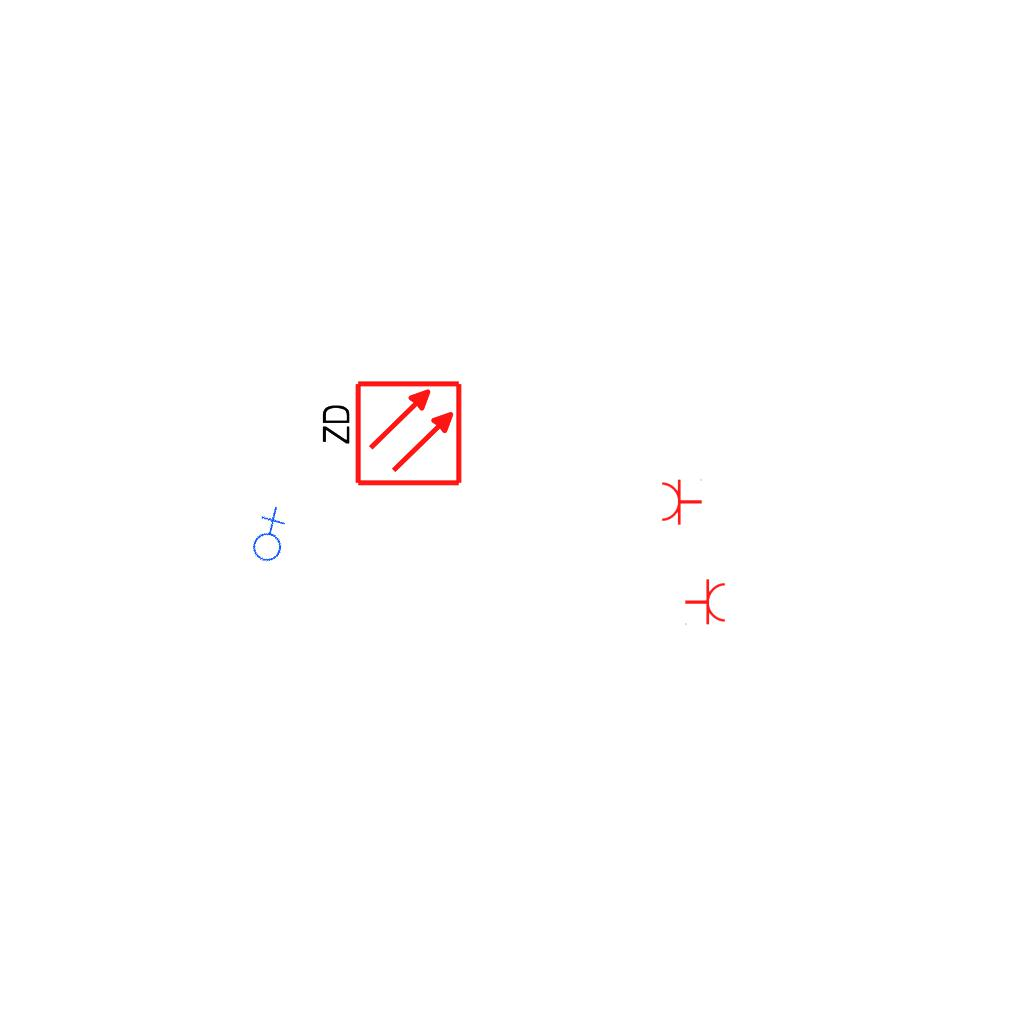Elektroanschluss_allgemein_230V_Geraeteanschlussdose_230V: (234, 503, 301, 570)
Schukosteckdose_einfach: (660, 476, 703, 526), (684, 578, 727, 628)
ZD_Melder_in_Zwischendecke_mit_Revisionsoeffnung_mind_40_x_40_cm: (315, 378, 464, 492)
